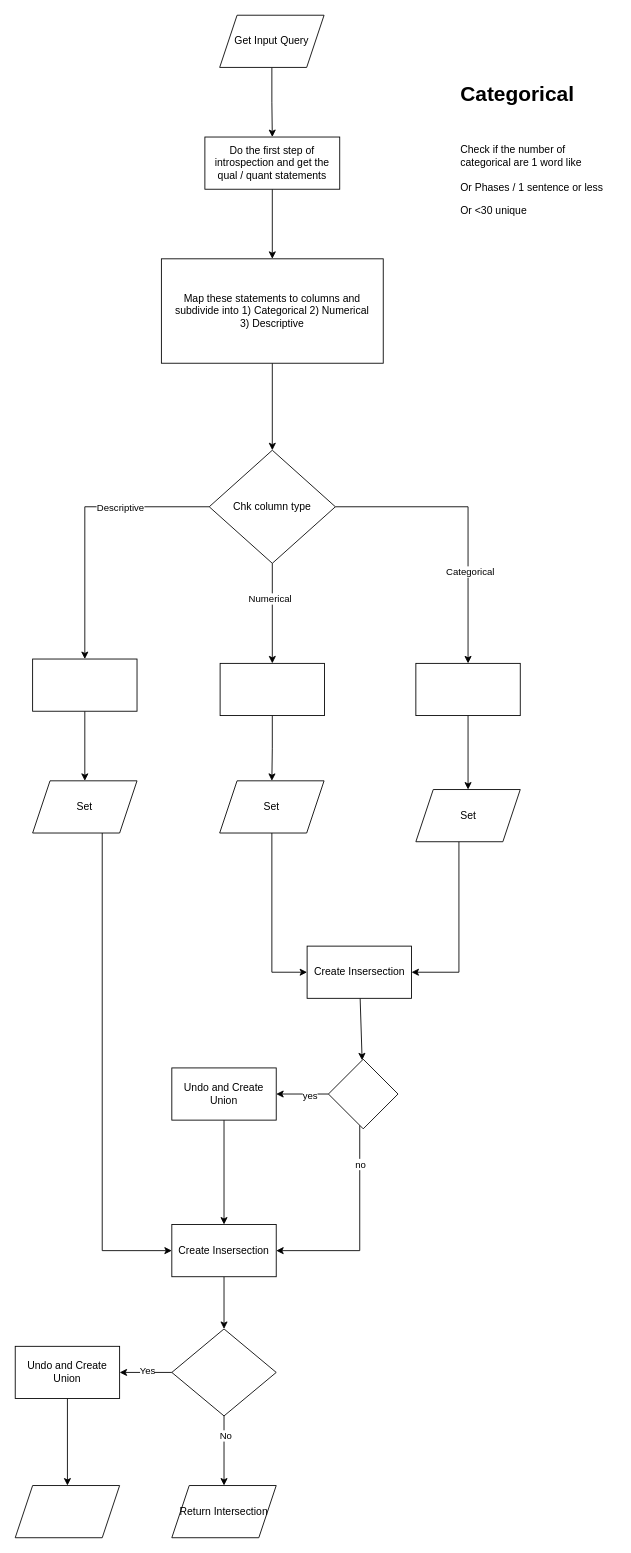
Some shapes in this 631 by 1553 pixel diagram are drawn without their labels. Here are the shapes that lost their labels. From the top down, the box of each, then its label:
(32, 658, 137, 711): ChromaDB Lookup
(219, 663, 325, 716): Construct numeric expression
(415, 663, 520, 716): LLM Classifier / Chrroma Lookup
(328, 1058, 398, 1129): if null
(171, 1328, 276, 1416): if Intersection Null
(14, 1485, 120, 1538): Return Union
